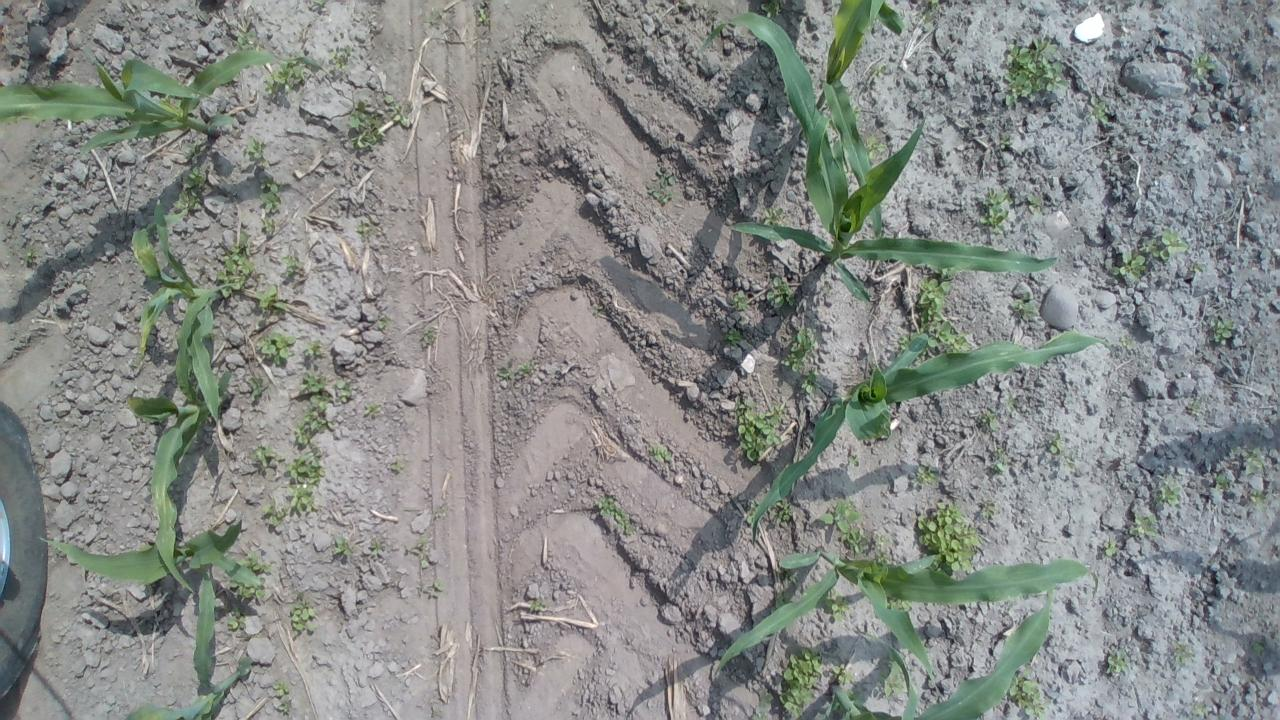Maize: (698, 12, 1061, 302), (750, 332, 1104, 534), (718, 544, 1089, 676), (0, 45, 327, 162), (128, 300, 232, 596), (826, 591, 1054, 720), (816, 0, 906, 236), (124, 565, 254, 720), (133, 200, 221, 420), (33, 518, 260, 588)
Weeds: (1004, 36, 1074, 105), (917, 500, 983, 572), (916, 276, 976, 354), (734, 398, 785, 462), (292, 373, 336, 446), (778, 646, 821, 720), (284, 448, 326, 514), (820, 500, 870, 554), (216, 232, 256, 298), (1010, 673, 1050, 720), (171, 166, 208, 216), (263, 52, 306, 95), (350, 97, 384, 151), (778, 327, 816, 373), (976, 190, 1013, 232), (255, 330, 298, 366), (594, 496, 634, 534), (1141, 230, 1189, 261), (766, 276, 799, 321), (288, 592, 318, 639), (880, 654, 906, 698), (1046, 432, 1076, 470), (384, 93, 414, 128), (1110, 254, 1146, 283), (254, 288, 291, 314), (1153, 478, 1184, 509), (248, 442, 284, 468), (256, 176, 282, 212), (824, 587, 850, 622), (1084, 94, 1110, 128), (236, 552, 272, 574), (260, 494, 284, 526), (648, 175, 672, 207), (1128, 512, 1157, 538), (227, 579, 265, 598), (327, 45, 354, 71), (1208, 318, 1233, 346), (976, 404, 1000, 433), (862, 134, 888, 160), (1190, 52, 1216, 78), (242, 136, 266, 162), (272, 679, 290, 713), (769, 501, 792, 526), (911, 466, 938, 487), (750, 694, 771, 720), (874, 535, 892, 564), (182, 140, 208, 160), (1245, 448, 1264, 475), (246, 374, 264, 402), (226, 606, 247, 630), (721, 328, 746, 348), (1172, 642, 1194, 664), (237, 30, 260, 51), (768, 588, 792, 608), (1010, 299, 1036, 317), (762, 206, 788, 224), (281, 255, 303, 276), (991, 447, 1008, 474), (302, 340, 324, 360), (832, 662, 852, 684), (728, 290, 748, 312), (648, 445, 672, 463), (800, 368, 816, 395), (1106, 655, 1128, 674), (886, 596, 912, 612), (762, 0, 781, 21), (744, 500, 760, 524), (334, 380, 353, 400), (334, 536, 352, 557), (980, 500, 998, 520), (871, 63, 891, 81), (1249, 490, 1265, 511), (1026, 194, 1041, 216), (362, 401, 382, 417), (844, 688, 864, 704), (1002, 392, 1018, 412), (1214, 475, 1230, 494), (22, 248, 38, 266), (367, 542, 386, 557), (1102, 540, 1117, 559), (828, 694, 843, 713), (356, 222, 370, 242), (849, 96, 861, 118), (528, 597, 544, 612), (170, 98, 183, 116), (478, 7, 490, 26), (1192, 702, 1208, 716), (430, 580, 444, 596), (934, 268, 958, 277), (1119, 335, 1132, 351), (261, 217, 274, 233), (916, 346, 928, 362), (495, 368, 510, 380), (898, 334, 909, 350), (786, 574, 800, 586), (375, 318, 390, 329), (1191, 401, 1201, 417), (246, 632, 266, 640), (1000, 134, 1011, 148), (518, 360, 528, 375), (848, 455, 860, 465), (312, 0, 328, 7), (159, 95, 170, 105), (423, 329, 433, 340), (678, 0, 689, 10), (1190, 264, 1202, 273), (1252, 643, 1264, 652), (390, 462, 400, 472), (418, 534, 428, 544), (712, 20, 722, 29), (930, 0, 939, 9), (1228, 447, 1236, 456)
